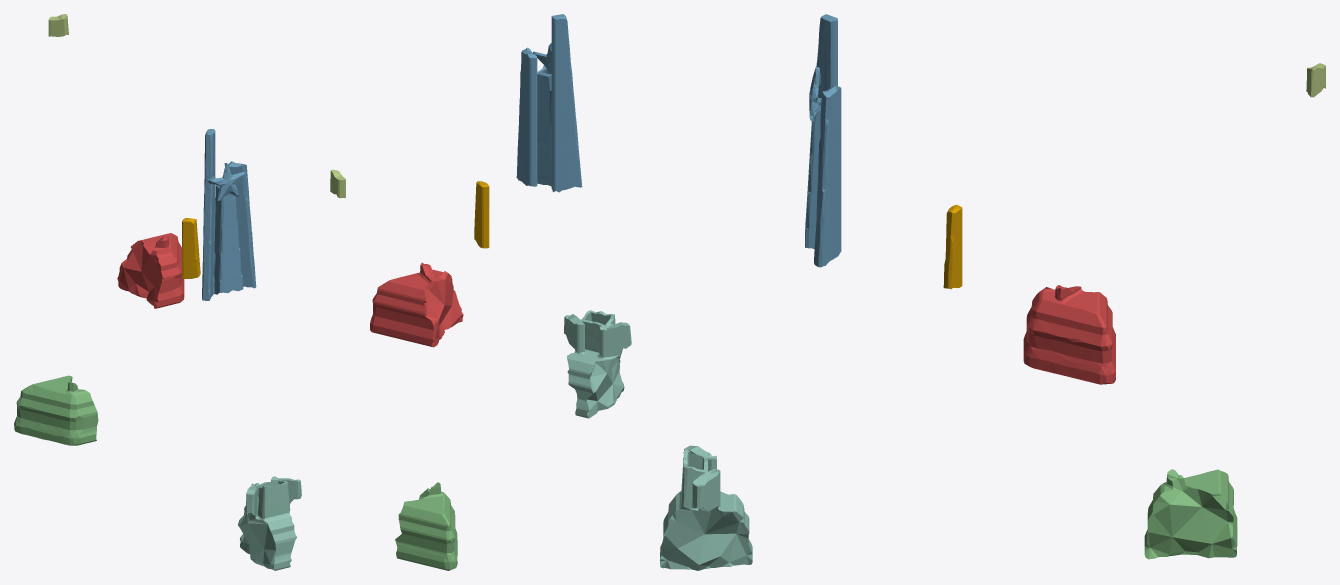
Rendered from fractured_4_6pcs_transformed.glb.
3 views of the same model, side by side, from view 1: azimuth 30°, elevation 25°; view 2: azimuth 150°, elevation 25°; view 3: azimuth 270°, elevation 25° (orthographic). The views are drawn at different scales.
Visible parts, largest first — view 1: piece_2.obj, piece_3.obj, piece_4.obj, piece_1.obj, piece_0.obj, piece_5.obj; view 2: piece_2.obj, piece_1.obj, piece_4.obj, piece_3.obj, piece_0.obj; view 3: piece_4.obj, piece_1.obj, piece_2.obj, piece_3.obj, piece_0.obj.
Part boxes in pixels (left/top/right/bottom): piece_2.obj: left=202, top=129, right=256, bottom=300; piece_3.obj: left=14, top=375, right=98, bottom=445; piece_4.obj: left=238, top=476, right=301, bottom=570; piece_1.obj: left=117, top=233, right=184, bottom=308; piece_0.obj: left=182, top=218, right=200, bottom=278; piece_5.obj: left=48, top=14, right=68, bottom=36; piece_2.obj: left=516, top=14, right=582, bottom=192; piece_1.obj: left=370, top=262, right=463, bottom=347; piece_4.obj: left=564, top=310, right=631, bottom=418; piece_3.obj: left=395, top=482, right=457, bottom=570; piece_0.obj: left=474, top=181, right=489, bottom=248; piece_4.obj: left=660, top=445, right=752, bottom=570; piece_1.obj: left=1023, top=285, right=1115, bottom=384; piece_2.obj: left=805, top=14, right=841, bottom=267; piece_3.obj: left=1144, top=469, right=1237, bottom=559; piece_0.obj: left=943, top=205, right=962, bottom=289.
Size of the model in its own units: 0.4818 by 1.47 by 1.65.
